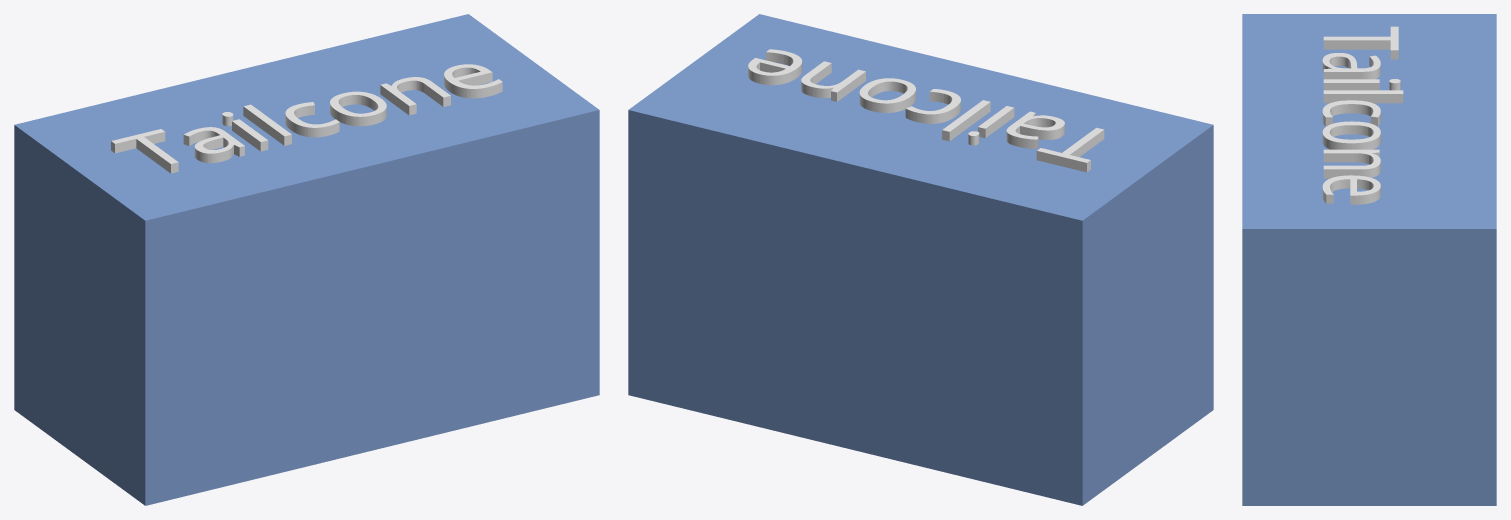
File: Tailcone.glb
The picture shows the model from 3 angles, left to right: view 1: azimuth 30°, elevation 25°; view 2: azimuth 150°, elevation 25°; view 3: azimuth 270°, elevation 25°; orthographic projection. The views are drawn at different scales.
Visible parts, largest first — view 1: ID2; view 2: ID2; view 3: ID2.
Part boxes in pixels (x1,y1,x2,y2): ID2: (14, 14, 599, 505); ID2: (628, 14, 1213, 505); ID2: (1242, 14, 1496, 505).
Size of the model in its own units: 5 by 3.1 by 2.5.
